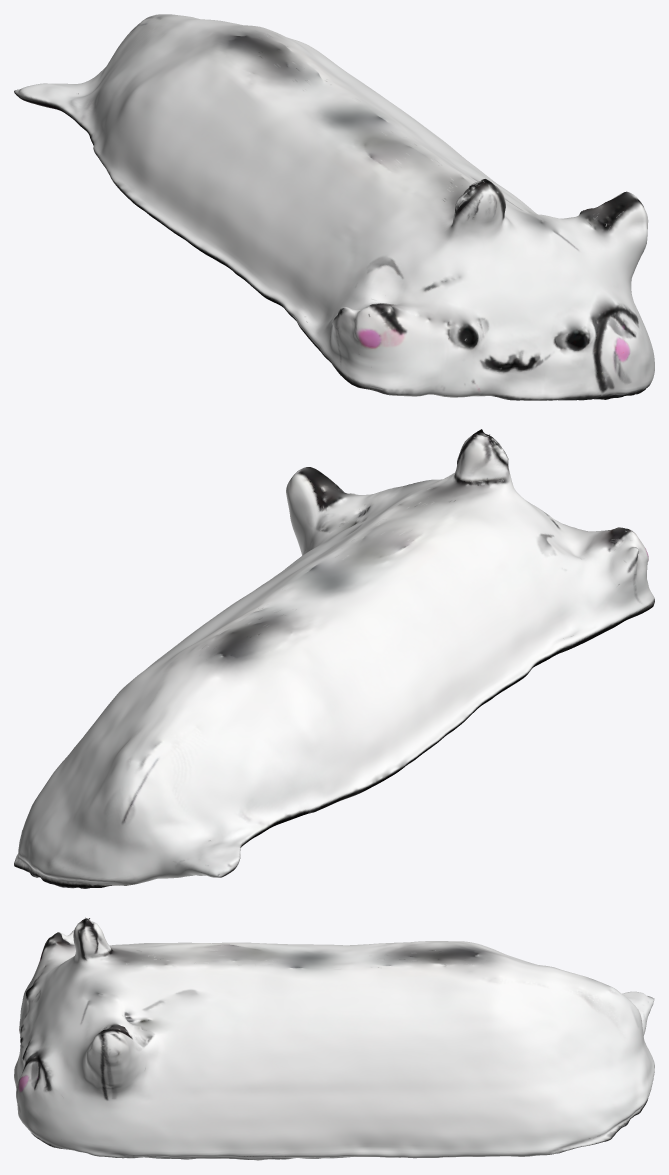
The model's file is bongocat.glb.
3 views of the same model, one above another, from view 1: azimuth 30°, elevation 25°; view 2: azimuth 150°, elevation 25°; view 3: azimuth 270°, elevation 25° (orthographic). The views are drawn at different scales.
Parts seen in each view (by area): view 1: Retopo_model; view 2: Retopo_model; view 3: Retopo_model.
Boxes of the visible parts, x1,y1,x2,y2 form: Retopo_model: (14,14,654,400); Retopo_model: (14,429,654,888); Retopo_model: (14,917,654,1160).
Size of the model in its own units: 0.4434 by 0.301 by 0.9585.
1 material, 1 textured.
